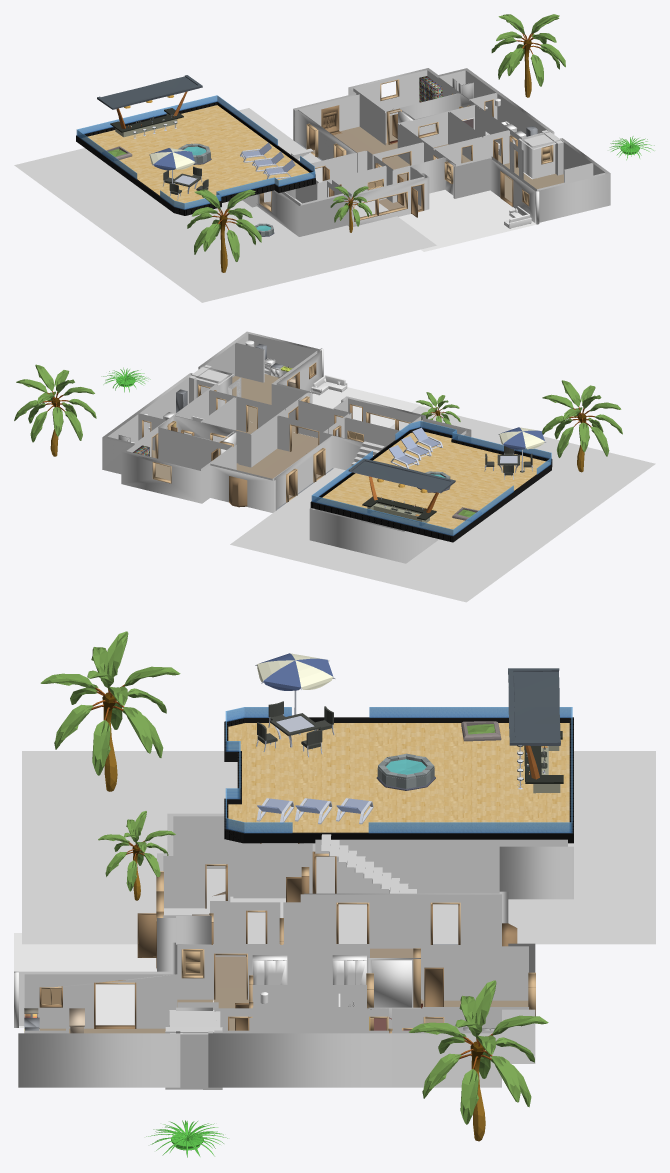
Rendered from villa-v5.glb.
The picture shows the model from 3 angles, top to bottom: view 1: azimuth 30°, elevation 25°; view 2: azimuth 150°, elevation 25°; view 3: azimuth 270°, elevation 25°; orthographic projection. The views are drawn at different scales.
Visible parts, largest first — view 1: SpecialFloor:bf05cb0a-8e65-4c5e-b1e2-84ccbbc07207.001, floor, ExternalWalls:1d50771a-7a2c-47bd-ba43-a21a209cf6d5, SpecialFloor:fb5ced88-9be9-4ba6-aea2-94a99b86bd45, Circle.134, PalmS02.003, WholeFloor:1d50771a-7a2c-47bd-ba43-a21a209cf6d5, PalmS02.001, InnerSide:07ea7c2e-6b60-4c1d-8918-d204c4f15fcf, InnerSide:81a3ae98-0cf4-49bf-9e51-376899a4b8e2, InnerSide:9d19a0ed-c836-4898-8a58-b87fbffbec2c, InnerSide:d2d62ea2-1411-4b98-ac94-df83de322611 (+18 smaller); view 2: SpecialFloor:bf05cb0a-8e65-4c5e-b1e2-84ccbbc07207.001, ExternalWalls:1d50771a-7a2c-47bd-ba43-a21a209cf6d5, floor, Circle.134, WholeFloor:1d50771a-7a2c-47bd-ba43-a21a209cf6d5, PalmS02.001, PalmS02.003, InnerSide:14cf4f35-89bc-4e53-ac35-a856d84bee53, SpecialFloor:fb5ced88-9be9-4ba6-aea2-94a99b86bd45, InnerSide:e0a78a03-6f58-4b95-8d45-8ee6c81f087a, InnerSide:f30d7f69-b0c3-4adf-ba34-e448112797bb, InnerSide:180731cb-10cf-493b-9604-24c39129547e (+18 smaller); view 3: SpecialFloor:bf05cb0a-8e65-4c5e-b1e2-84ccbbc07207.001, floor, ExternalWalls:1d50771a-7a2c-47bd-ba43-a21a209cf6d5, garage-wall-stairs, InnerSide:f49701f8-387f-433e-b2ae-74524d86104f, PalmS02.003, PalmS02.001, Circle.134, SpecialFloor:fb5ced88-9be9-4ba6-aea2-94a99b86bd45, InnerSide:6f2e4eb1-e663-439a-a21c-952b7c87893d, InnerSide:92ff0d8b-f08f-4925-a77f-3edb50b0ebd1, WholeFloor:1d50771a-7a2c-47bd-ba43-a21a209cf6d5 (+23 smaller).
Boxes of the visible parts, left/top/right/bottom form: SpecialFloor:bf05cb0a-8e65-4c5e-b1e2-84ccbbc07207.001: left=14, top=108, right=436, bottom=302; floor: left=76, top=95, right=315, bottom=215; ExternalWalls:1d50771a-7a2c-47bd-ba43-a21a209cf6d5: left=240, top=68, right=610, bottom=236; SpecialFloor:fb5ced88-9be9-4ba6-aea2-94a99b86bd45: left=398, top=190, right=536, bottom=251; Circle.134: left=97, top=75, right=202, bottom=138; PalmS02.003: left=187, top=189, right=261, bottom=272; WholeFloor:1d50771a-7a2c-47bd-ba43-a21a209cf6d5: left=257, top=115, right=563, bottom=210; PalmS02.001: left=491, top=14, right=565, bottom=97; InnerSide:07ea7c2e-6b60-4c1d-8918-d204c4f15fcf: left=353, top=70, right=427, bottom=110; InnerSide:81a3ae98-0cf4-49bf-9e51-376899a4b8e2: left=435, top=130, right=509, bottom=164; InnerSide:9d19a0ed-c836-4898-8a58-b87fbffbec2c: left=298, top=94, right=359, bottom=131; InnerSide:d2d62ea2-1411-4b98-ac94-df83de322611: left=359, top=94, right=385, bottom=145; SpecialFloor:bf05cb0a-8e65-4c5e-b1e2-84ccbbc07207.001: left=230, top=406, right=655, bottom=602; ExternalWalls:1d50771a-7a2c-47bd-ba43-a21a209cf6d5: left=102, top=331, right=471, bottom=563; floor: left=310, top=421, right=552, bottom=542; Circle.134: left=348, top=458, right=455, bottom=525; WholeFloor:1d50771a-7a2c-47bd-ba43-a21a209cf6d5: left=152, top=374, right=320, bottom=498; PalmS02.001: left=14, top=364, right=96, bottom=456; PalmS02.003: left=542, top=380, right=622, bottom=472; InnerSide:14cf4f35-89bc-4e53-ac35-a856d84bee53: left=158, top=428, right=232, bottom=468; SpecialFloor:fb5ced88-9be9-4ba6-aea2-94a99b86bd45: left=310, top=387, right=430, bottom=427; InnerSide:e0a78a03-6f58-4b95-8d45-8ee6c81f087a: left=248, top=333, right=316, bottom=377; InnerSide:f30d7f69-b0c3-4adf-ba34-e448112797bb: left=235, top=343, right=263, bottom=382; InnerSide:180731cb-10cf-493b-9604-24c39129547e: left=298, top=401, right=348, bottom=437; SpecialFloor:bf05cb0a-8e65-4c5e-b1e2-84ccbbc07207.001: left=22, top=751, right=655, bottom=944; floor: left=224, top=707, right=573, bottom=843; ExternalWalls:1d50771a-7a2c-47bd-ba43-a21a209cf6d5: left=18, top=813, right=573, bottom=1087; garage-wall-stairs: left=315, top=839, right=567, bottom=893; InnerSide:f49701f8-387f-433e-b2ae-74524d86104f: left=300, top=894, right=501, bottom=948; PalmS02.003: left=40, top=631, right=180, bottom=791; PalmS02.001: left=409, top=980, right=548, bottom=1141; Circle.134: left=508, top=668, right=563, bottom=793; SpecialFloor:fb5ced88-9be9-4ba6-aea2-94a99b86bd45: left=14, top=933, right=156, bottom=1027; InnerSide:6f2e4eb1-e663-439a-a21c-952b7c87893d: left=24, top=974, right=177, bottom=1028; InnerSide:92ff0d8b-f08f-4925-a77f-3edb50b0ebd1: left=422, top=946, right=528, bottom=1000; WholeFloor:1d50771a-7a2c-47bd-ba43-a21a209cf6d5: left=24, top=891, right=528, bottom=1033.
Size of what is drawn, in the model's own units: 52.02 by 9.72 by 34.32.
Materials: 7 (5 with a texture image).
